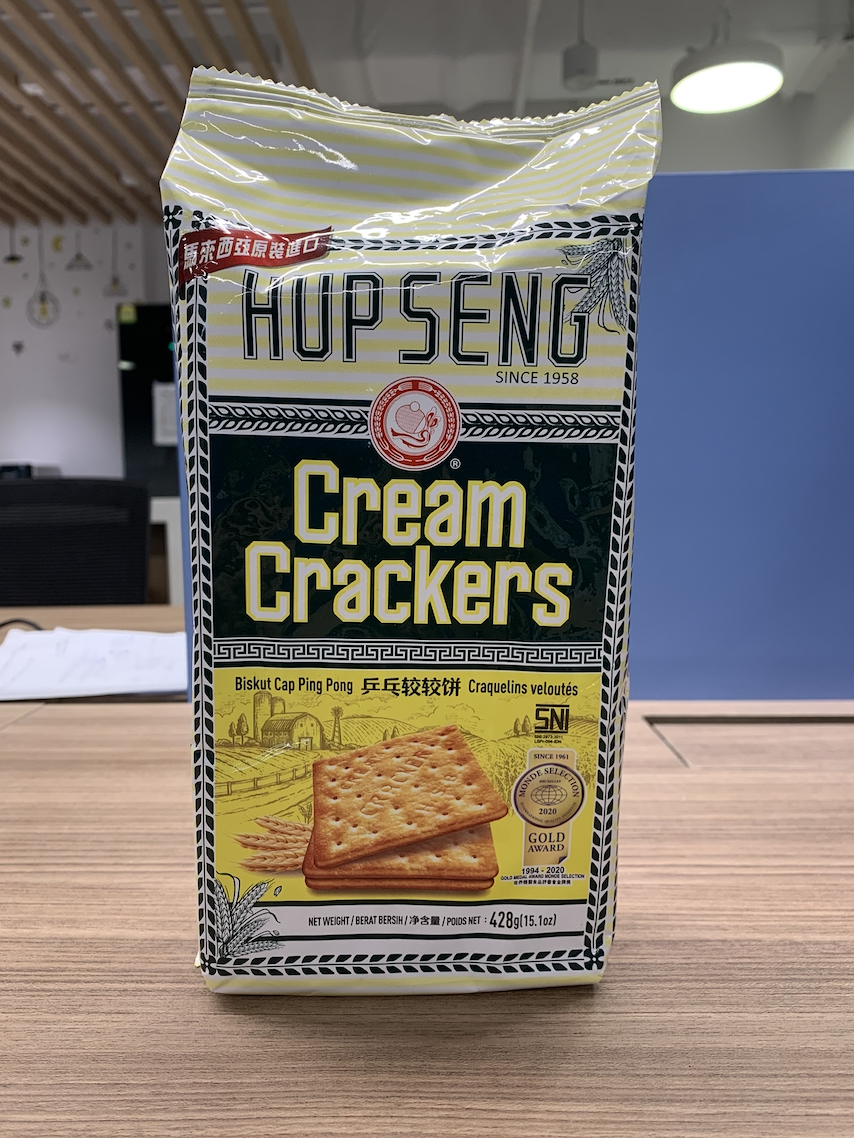crackers_400g-499g: (193, 169, 611, 972)
